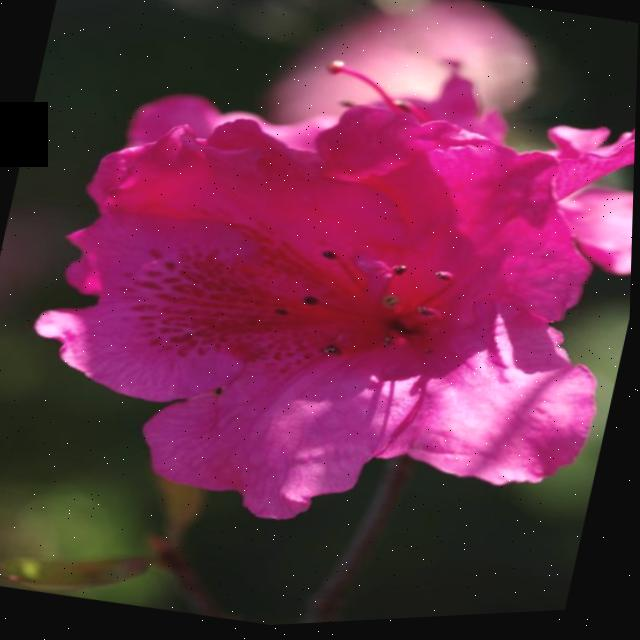azalea: (12, 23, 639, 597)
